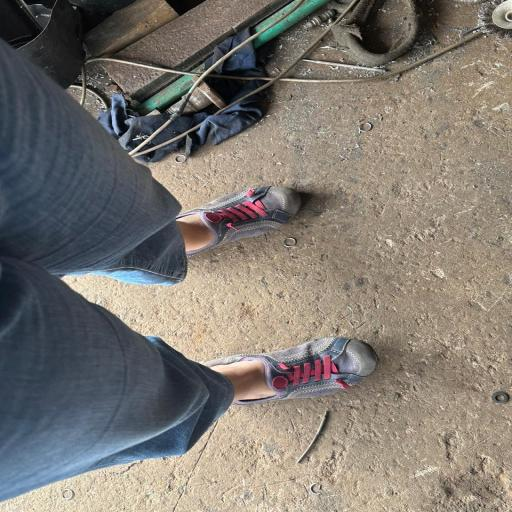not_safety_shoe: (189, 330, 386, 410), (154, 174, 313, 252)
